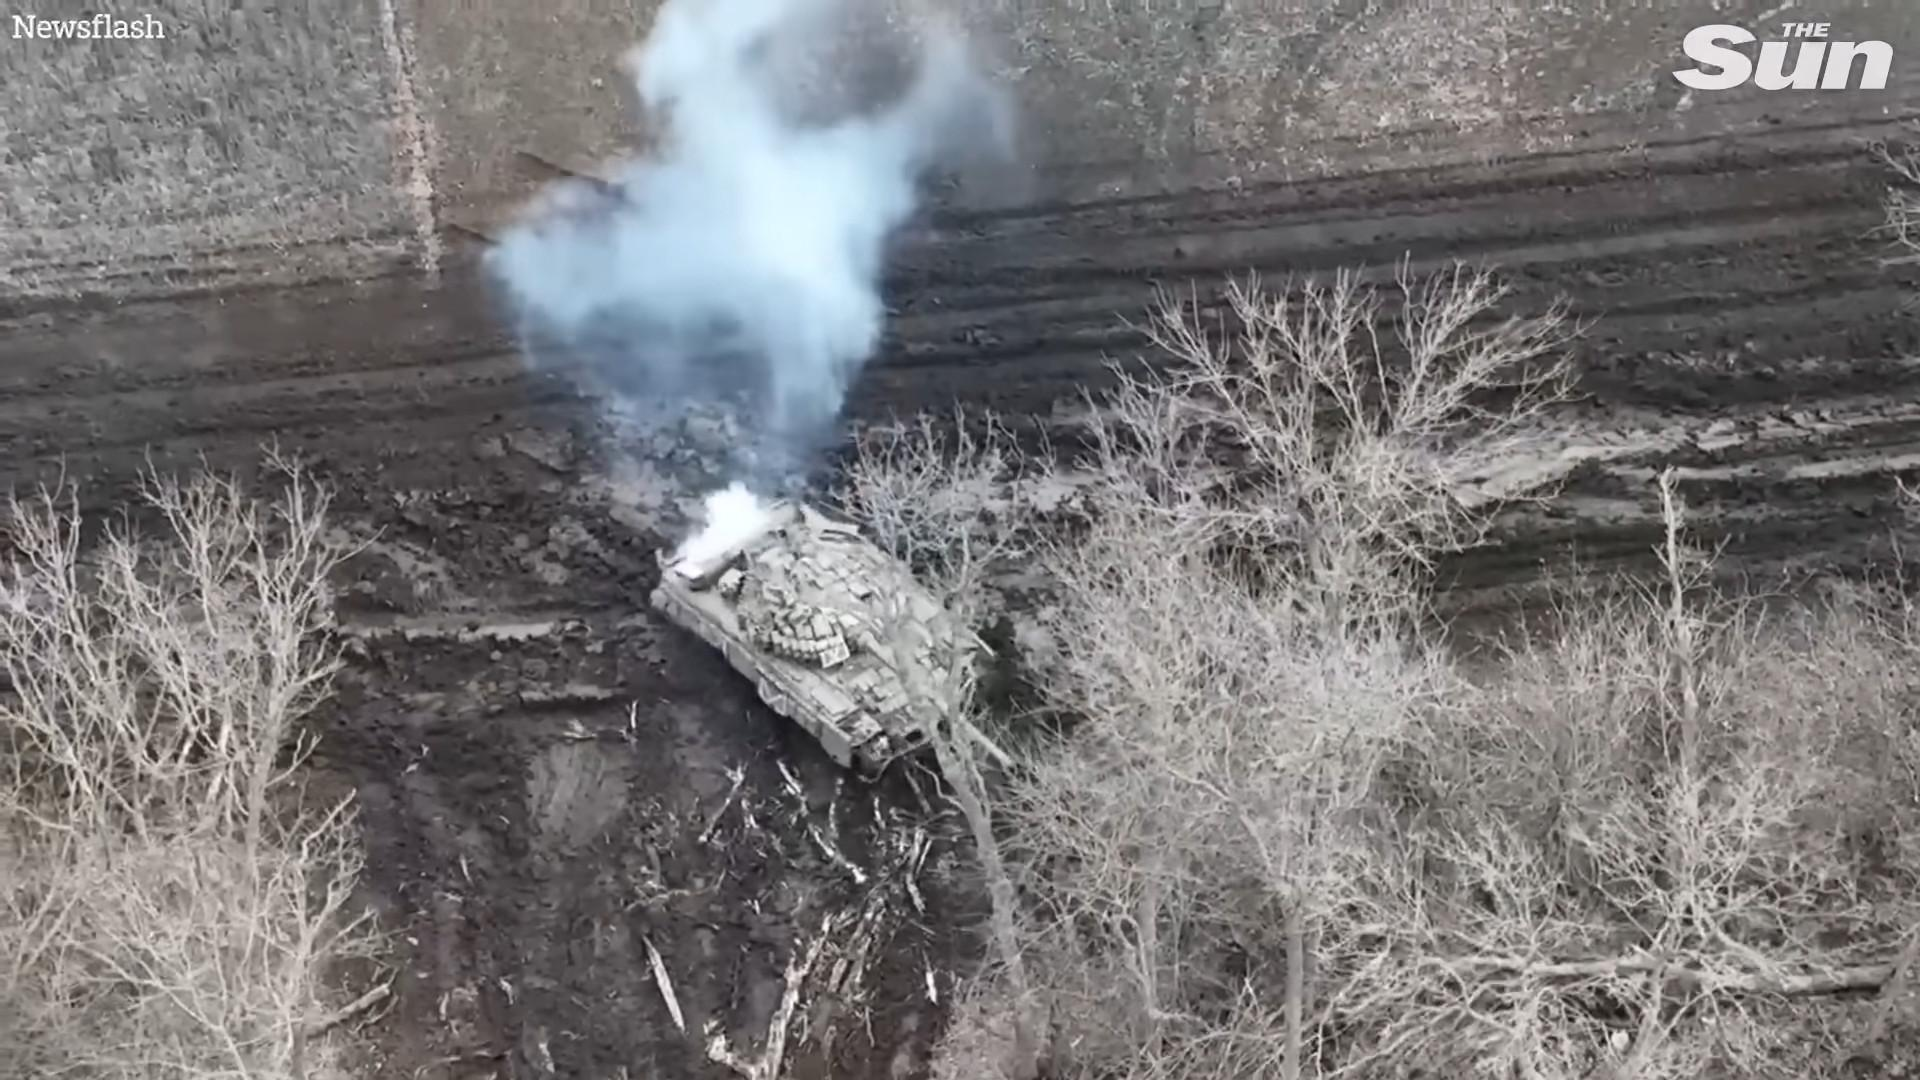tank: (650, 496, 1013, 781)
